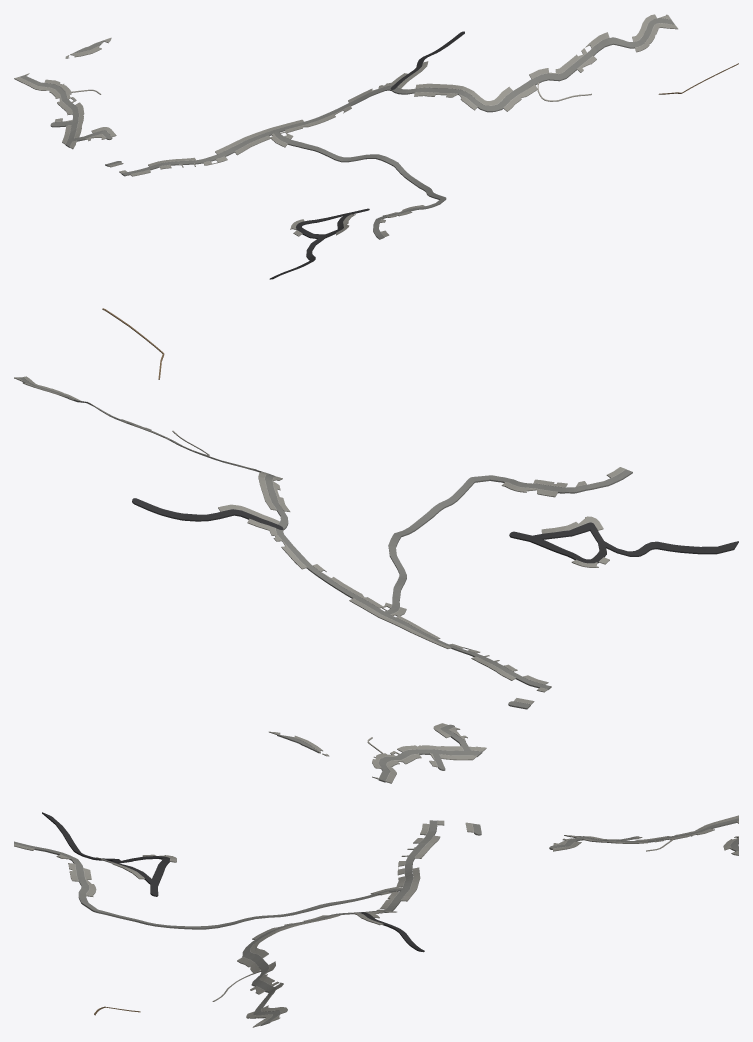
3 renders of one model, top to bottom at view 1: azimuth 30°, elevation 25°; view 2: azimuth 150°, elevation 25°; view 3: azimuth 270°, elevation 25°, orthographic. The views are drawn at different scales.
Bounding box in the file's own units: 587 × 117 × 583.
